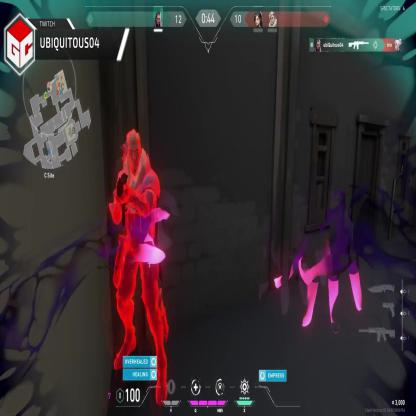enemy: (108, 129, 168, 403)
enemy_head: (126, 131, 142, 171)
